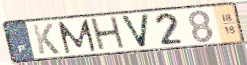2: (155, 11, 188, 47)
8: (187, 9, 215, 44)
H: (89, 15, 129, 54)
K: (30, 22, 62, 56)
M: (56, 19, 98, 55)
V: (119, 13, 152, 50)
